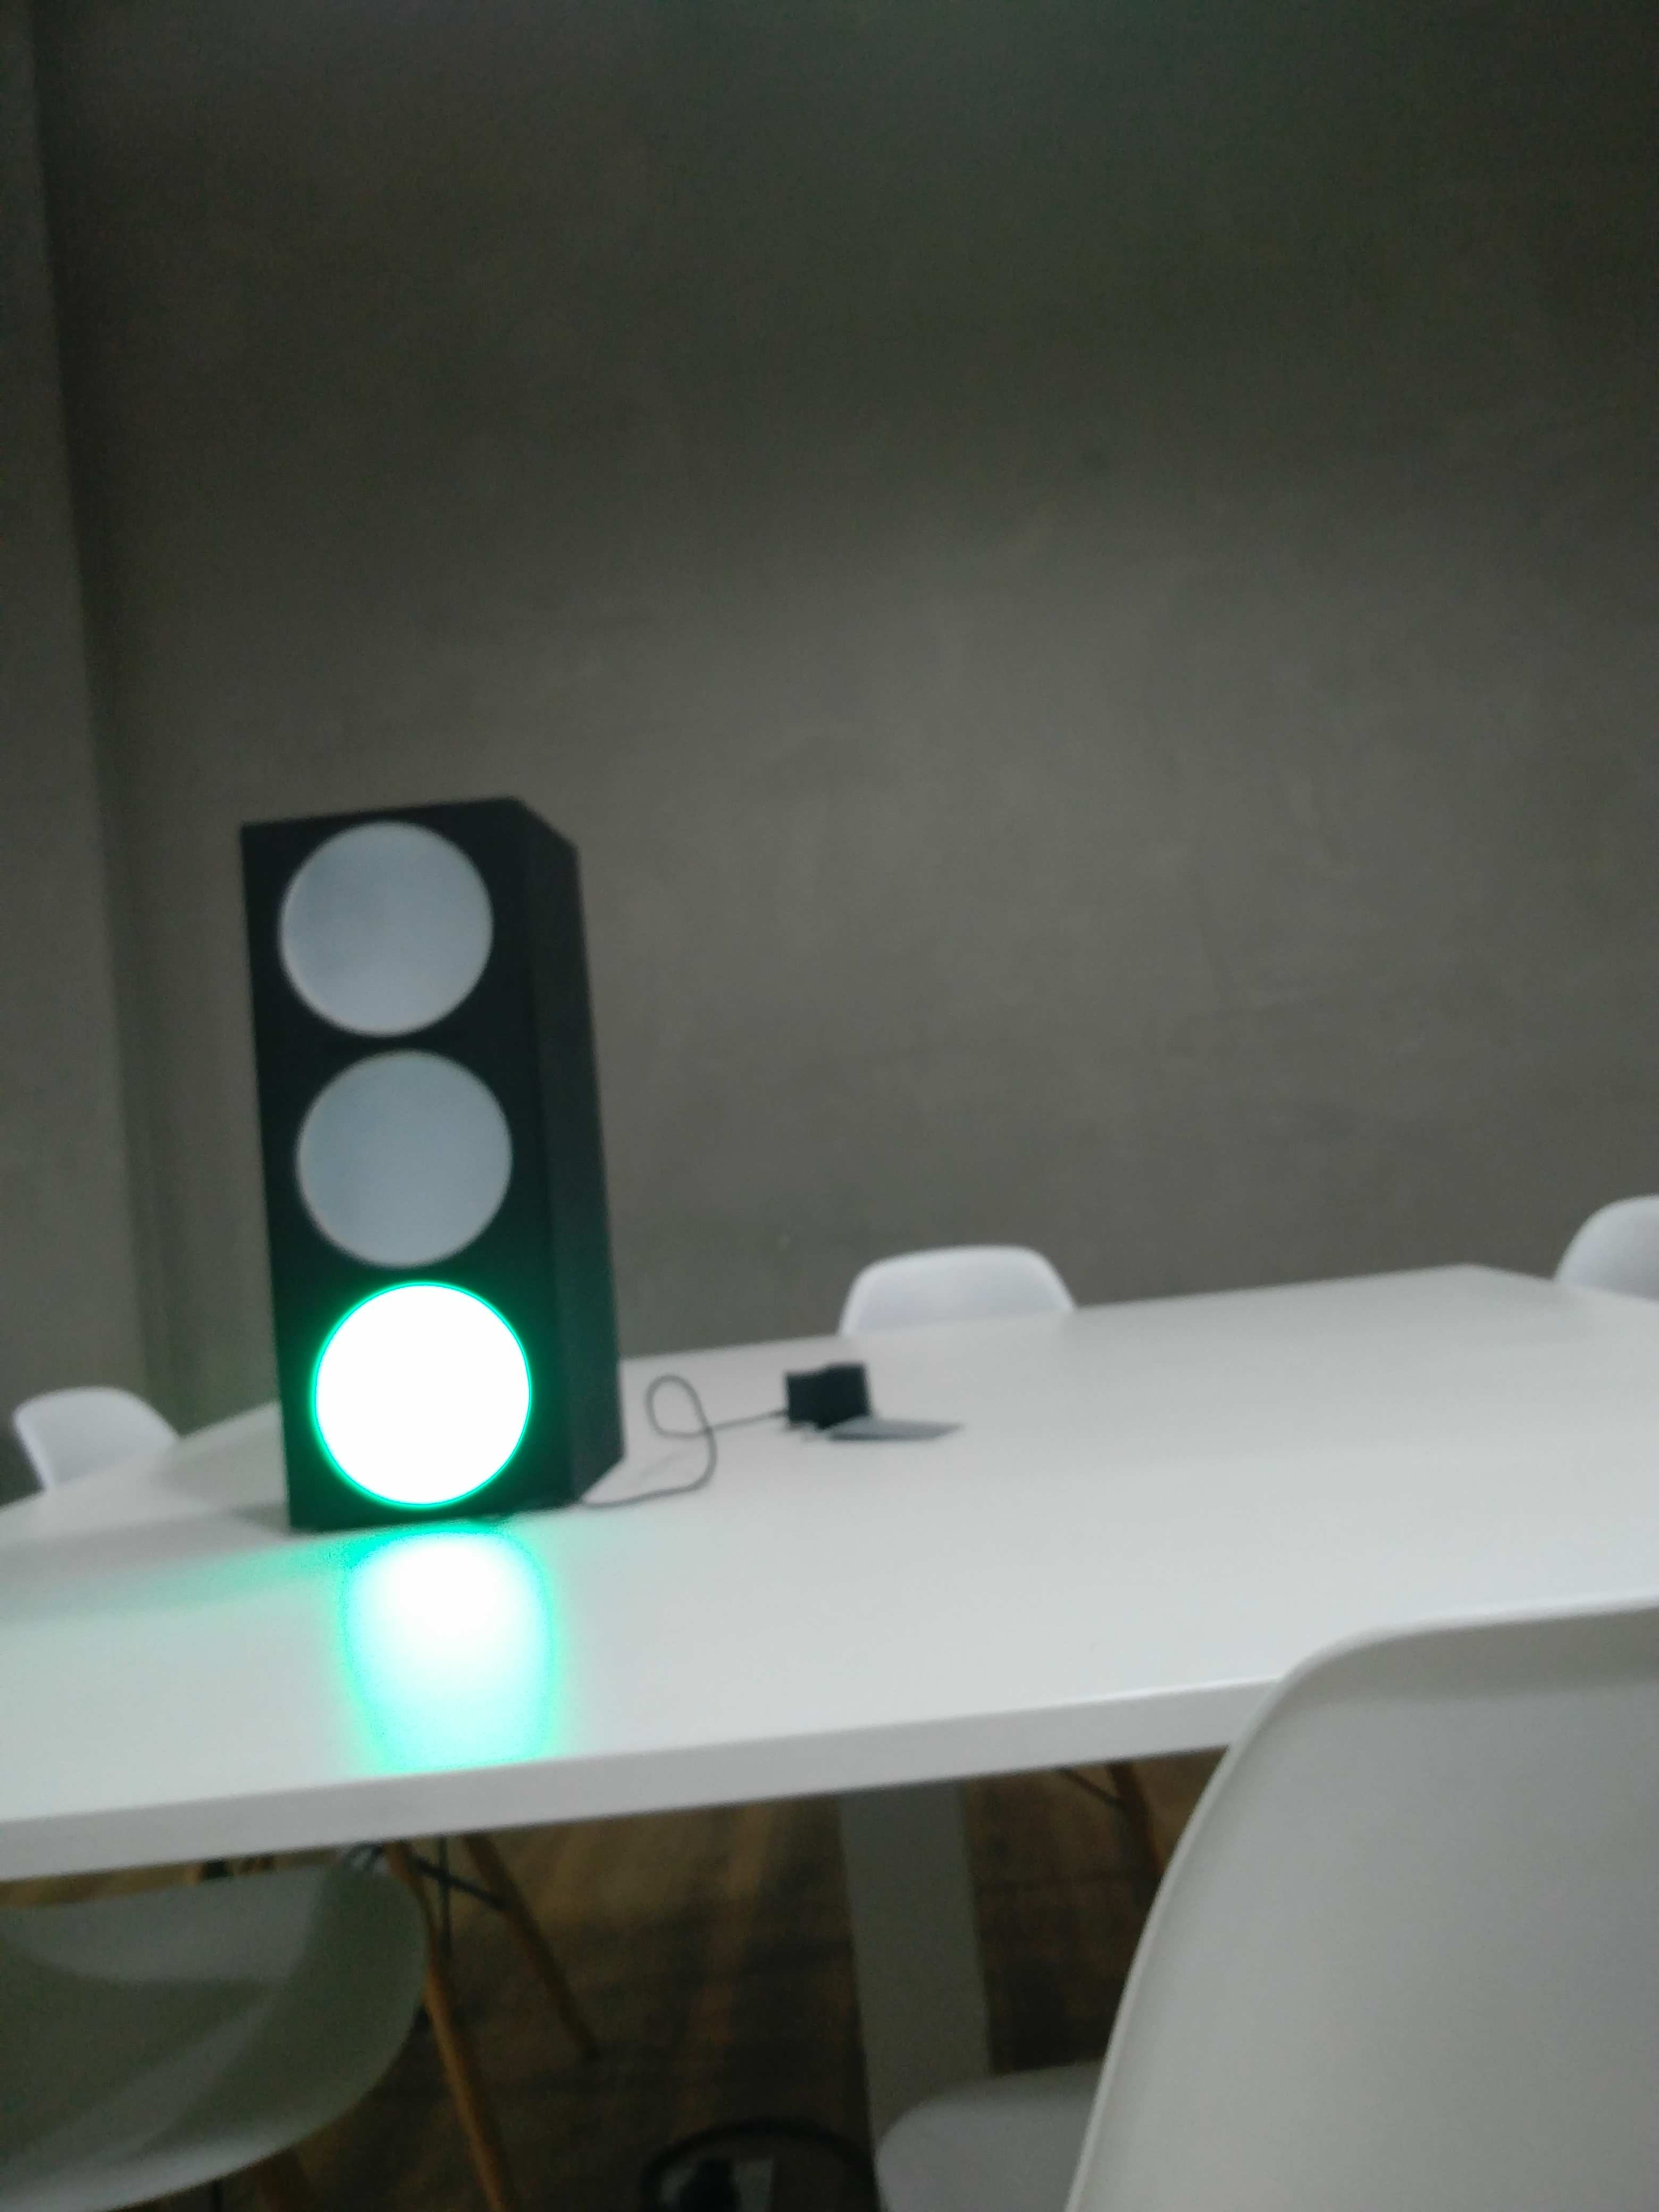go: (235, 803, 643, 1545)
